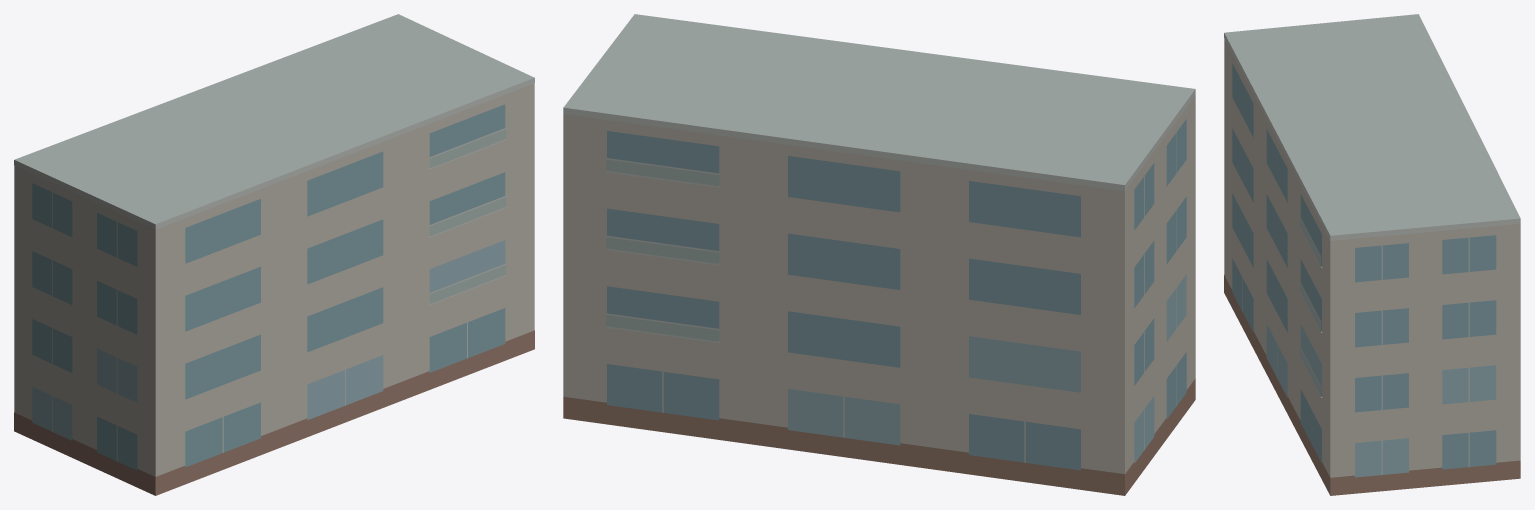
Rendered from survey-upis-32696844.glb.
The picture shows the model from 3 angles, left to right: view 1: azimuth 30°, elevation 25°; view 2: azimuth 150°, elevation 25°; view 3: azimuth 270°, elevation 25°; orthographic projection. The views are drawn at different scales.
Visible parts, largest first — view 1: survey-upis-32696844.tmp; view 2: survey-upis-32696844.tmp; view 3: survey-upis-32696844.tmp.
Boxes of the visible parts, x1=… form: survey-upis-32696844.tmp: x1=14, y1=14, x2=534, y2=495; survey-upis-32696844.tmp: x1=563, y1=14, x2=1195, y2=495; survey-upis-32696844.tmp: x1=1224, y1=14, x2=1520, y2=495.
Size of the model in its own units: 22.32 by 12.2 by 12.62.
